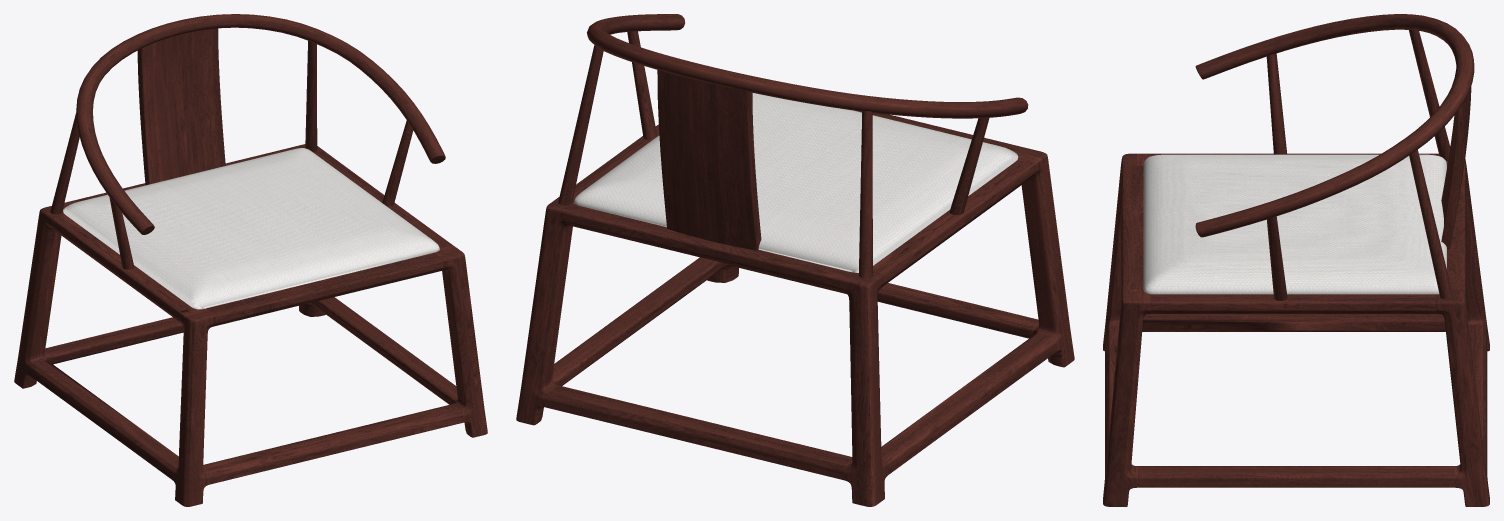
3 views of the same model, side by side, from view 1: azimuth 30°, elevation 25°; view 2: azimuth 150°, elevation 25°; view 3: azimuth 270°, elevation 25° (orthographic). The views are drawn at different scales.
Parts seen in each view (by area): view 1: XD-主位; view 2: XD-主位; view 3: XD-主位.
Boxes of the visible parts, x1,y1,x2,y2 form: XD-主位: [14, 14, 487, 506]; XD-主位: [516, 14, 1074, 506]; XD-主位: [1103, 14, 1489, 506].
Bounding box in the file's own units: 0.9412 × 0.9012 × 0.9411.
